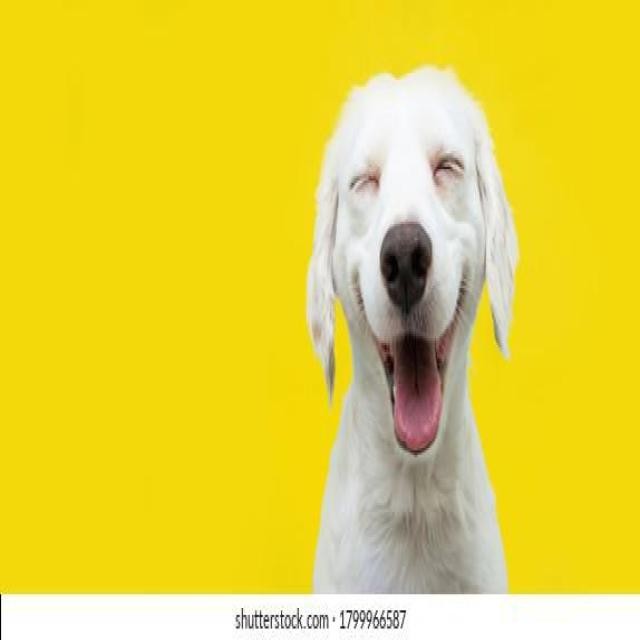Dog: (301, 58, 526, 482)
